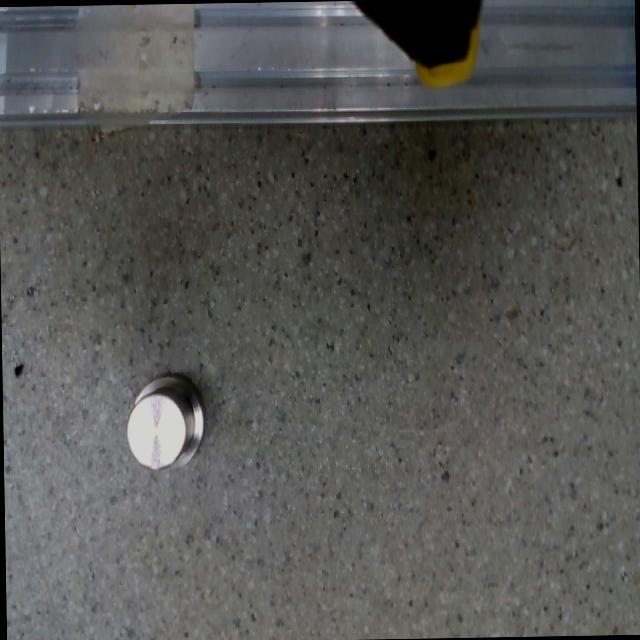sensor: (122, 372, 205, 473)
